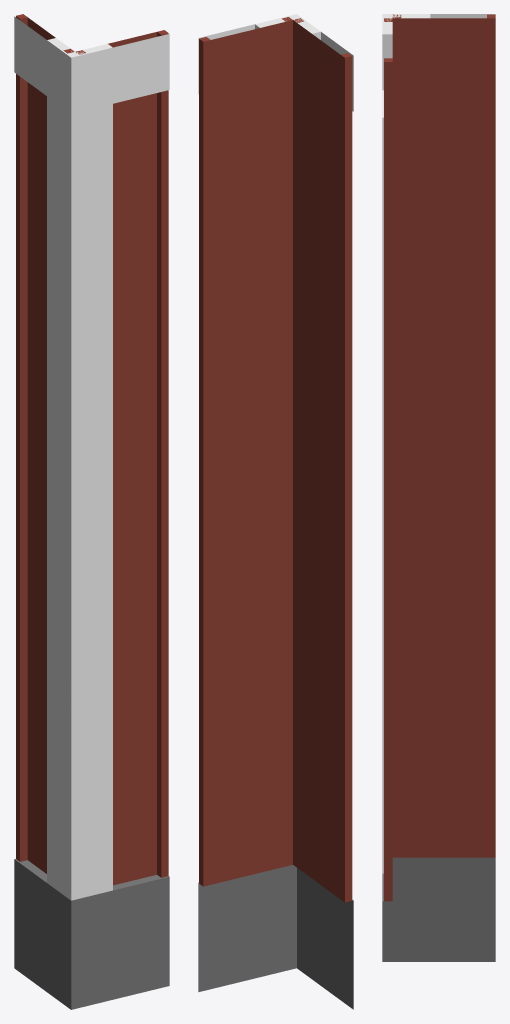
File: base-c1_close.fbx
3 renders of one model, left to right at view 1: azimuth 30°, elevation 25°; view 2: azimuth 210°, elevation 25°; view 3: azimuth 270°, elevation 25°, orthographic.
Visible parts, largest first — view 1: a2015/600/base-c1_close; view 2: a2015/600/base-c1_close; view 3: a2015/600/base-c1_close.
Part boxes in pixels (x1,y1,x2,y2): a2015/600/base-c1_close: (14,14,169,1009); a2015/600/base-c1_close: (198,14,353,1009); a2015/600/base-c1_close: (382,14,495,961).
Size of the model in its own units: 0.33 by 3.05 by 0.33.
